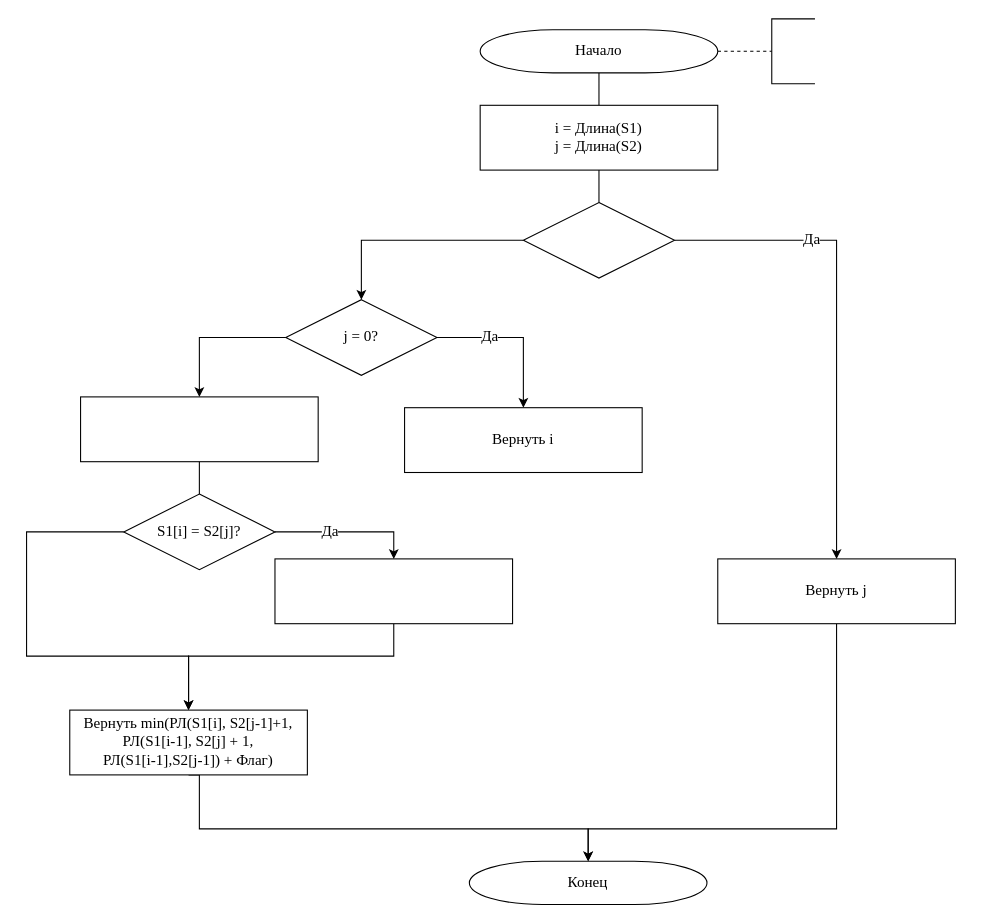
Image size: 1001x923. Some labels were removed from this diagram. Each missing label, with the centre of its shape:
i = 0?: (598,239)
РасстояниеЛевенштейна(S1, S2) (далее РЛ(S1, S2) //S1, S2 имеют строковой тип: (793,51)
Флаг = 0: (393,591)
Флаг = 1: (198,429)
